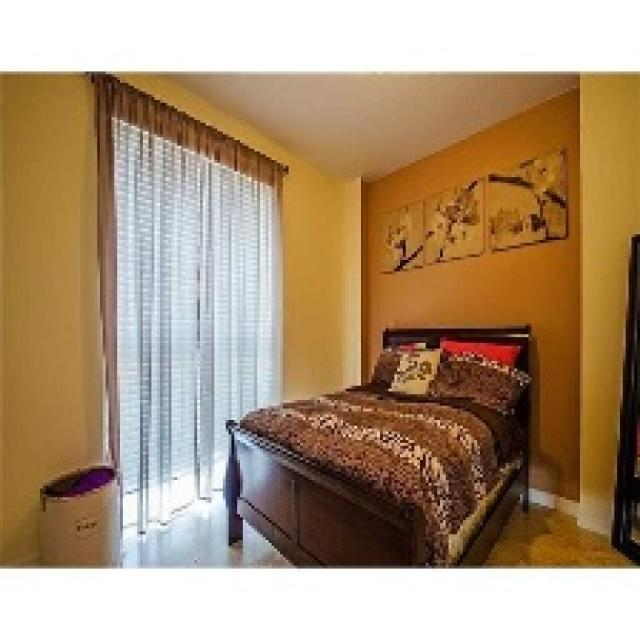Bed: (223, 323, 531, 566)
